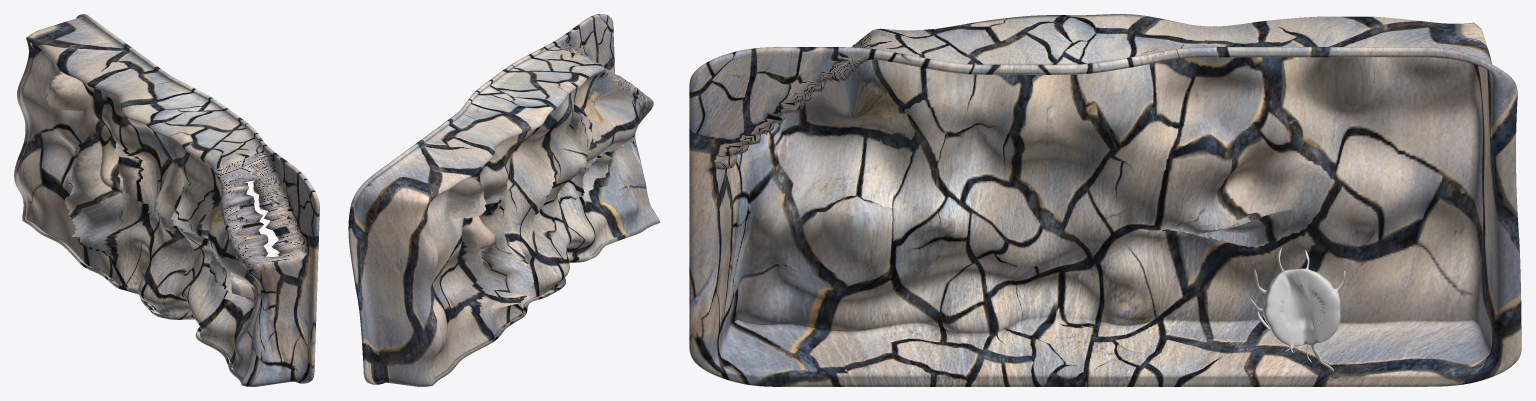
Rendered from fondoFINAL11.fbx.
The picture shows the model from 3 angles, left to right: view 1: azimuth 30°, elevation 25°; view 2: azimuth 150°, elevation 25°; view 3: azimuth 270°, elevation 25°; orthographic projection. The views are drawn at different scales.
Parts seen in each view (by area): view 1: Fondo; view 2: Fondo; view 3: Fondo, Ganglio.
Boxes of the visible parts, x1,y1,x2,y2 form: Fondo: (14,14,319,386); Fondo: (348,14,660,386); Fondo: (689,14,1521,386); Ganglio: (1248,247,1345,371).
Bounding box in the file's own units: 315 × 638 × 1398.
